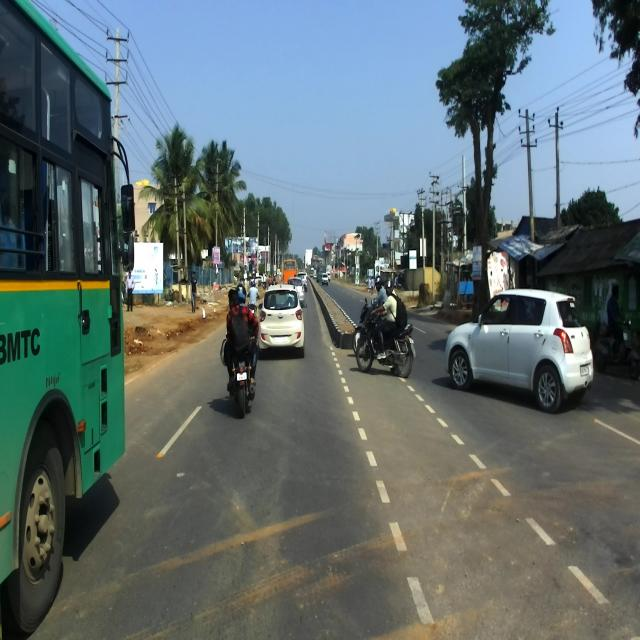bus: (0, 0, 135, 639)
car: (445, 287, 594, 412)
motorcycle: (355, 308, 416, 378), (223, 321, 258, 416)
